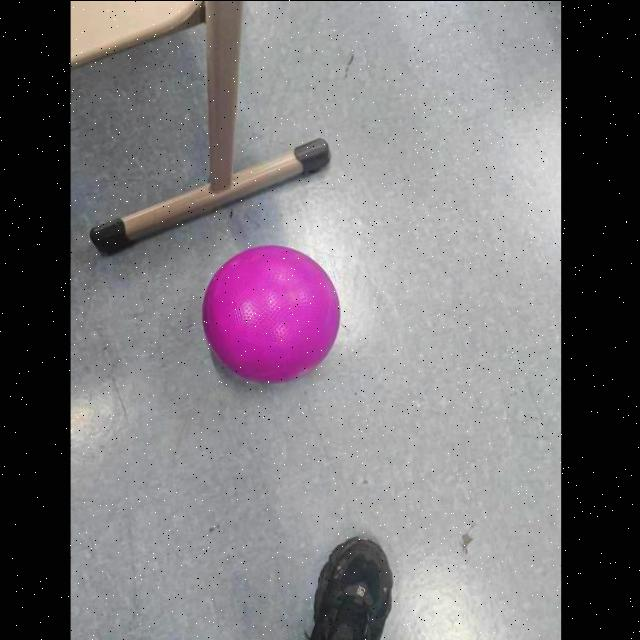P: (197, 242, 345, 382)
